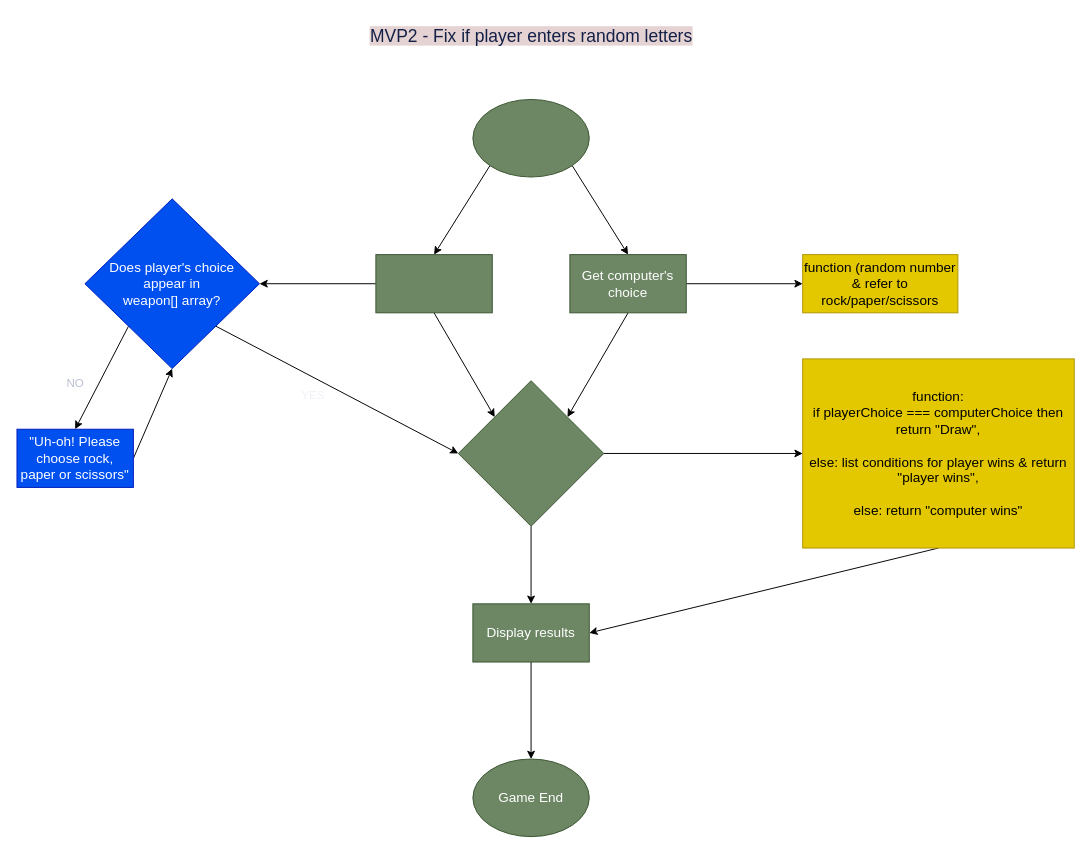
Some shapes in this 1091 by 854 pixel diagram are drawn without their labels. The shapes that lost their labels are listed below. From the top down, each one's centre as x and y in pixels, then its label:
At [530,137]: "Game Start".
At [433,283]: "Get player's choice".
At [530,453]: "compare choices & decide winner".
